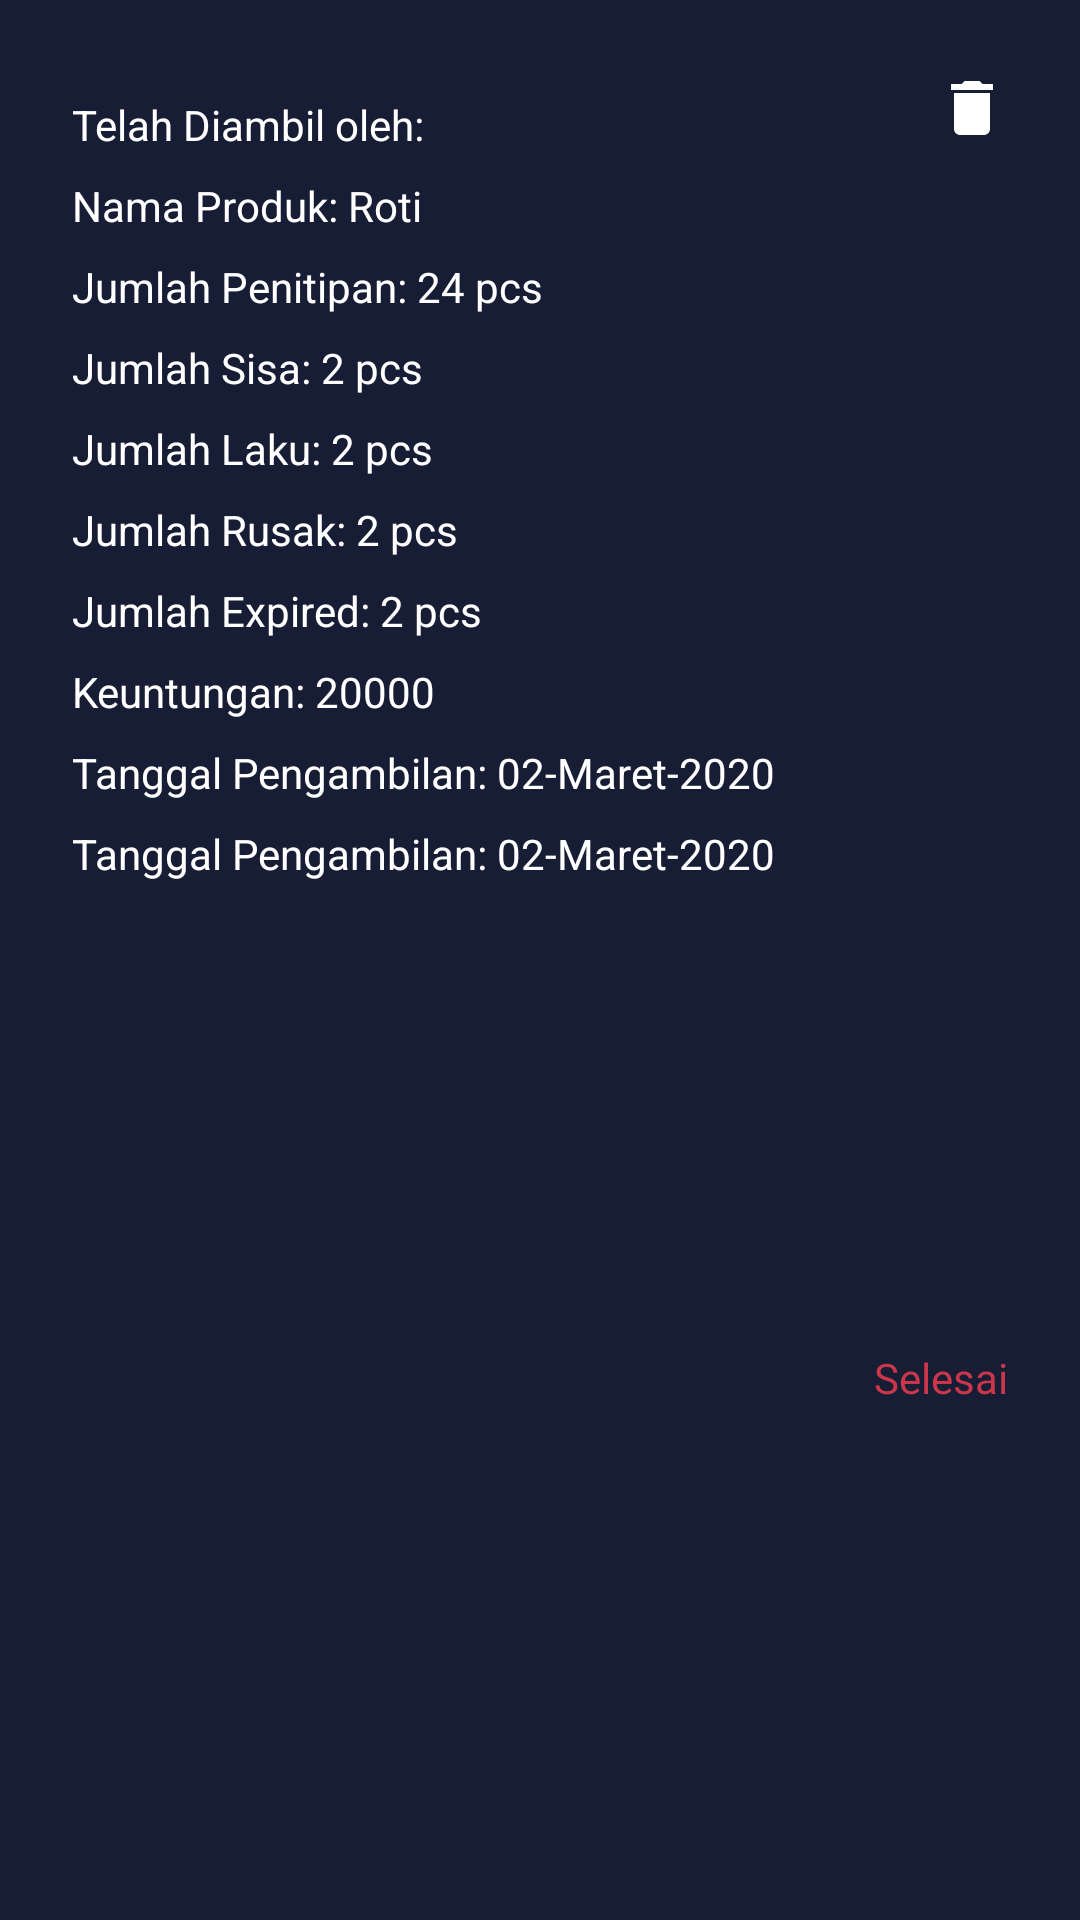

Screen size 1080 x 1920. Icon name, then its box in pixels as (x1, y1, x2, y2):
delete: (951, 81, 993, 135)
